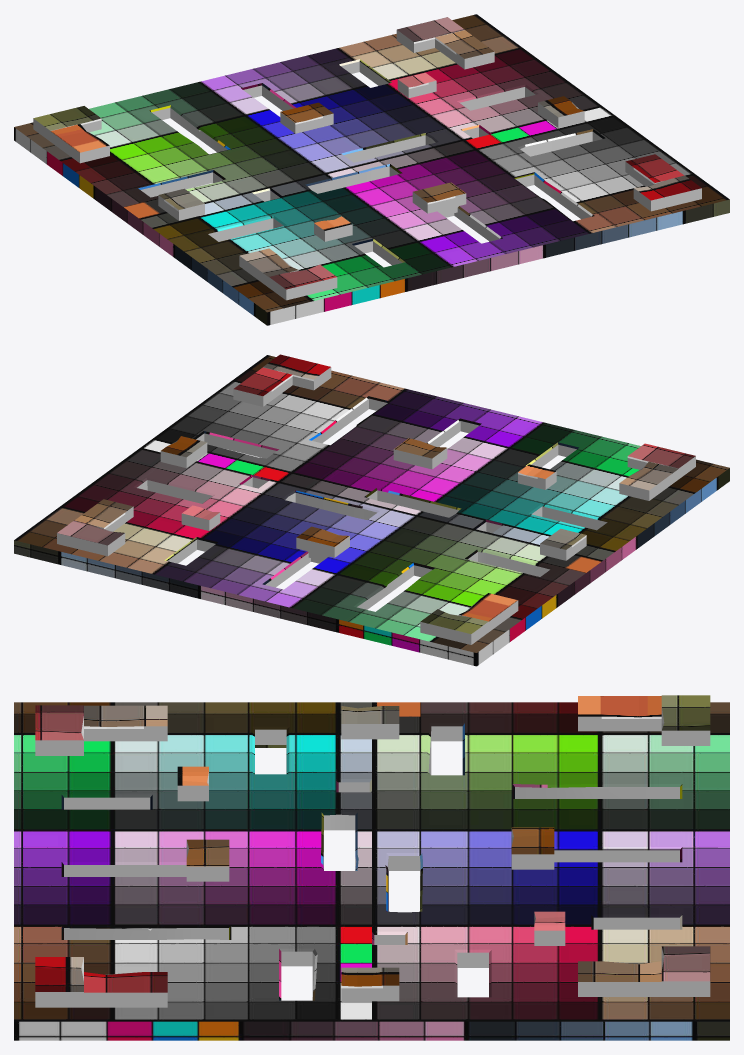
Rendered from Ground - Copy.fbx.
3 renders of one model, top to bottom at view 1: azimuth 30°, elevation 25°; view 2: azimuth 150°, elevation 25°; view 3: azimuth 270°, elevation 25°, orthographic. The views are drawn at different scales.
Visible parts, largest first — view 1: Ground .001; view 2: Ground .001; view 3: Ground .001.
Boxes of the visible parts, <box> form: Ground .001: <box>14,14,729,325</box>; Ground .001: <box>14,354,729,666</box>; Ground .001: <box>14,695,729,1040</box>.
Bounding box in the file's own units: 5189 × 260 × 4918.
